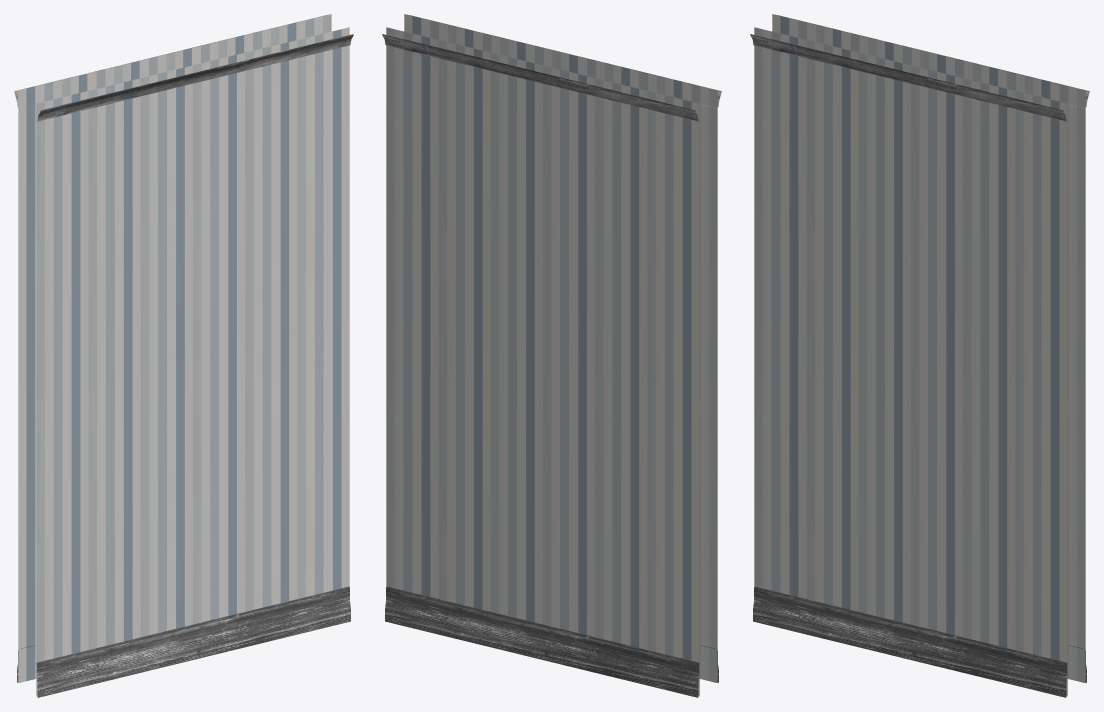
Rendered from SM_Wall_Floor1_Inside_200.fbx.
3 renders of one model, left to right at view 1: azimuth 30°, elevation 25°; view 2: azimuth 150°, elevation 25°; view 3: azimuth 330°, elevation 25°, orthographic.
Visible parts, largest first — view 1: SM_Wall_Floor1_Inside_200; view 2: SM_Wall_Floor1_Inside_200; view 3: SM_Wall_Floor1_Inside_200.
Boxes of the visible parts, <box> form: SM_Wall_Floor1_Inside_200: <box>14,14,353,697</box>; SM_Wall_Floor1_Inside_200: <box>382,14,721,697</box>; SM_Wall_Floor1_Inside_200: <box>750,14,1089,697</box>.
Bounding box in the file's own units: 140 × 20.33 × 253.
2 materials, 2 textured.
